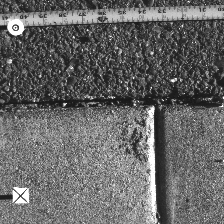circle: (6, 18, 25, 36)
crack: (1, 94, 223, 111)
square: (12, 187, 29, 204)
